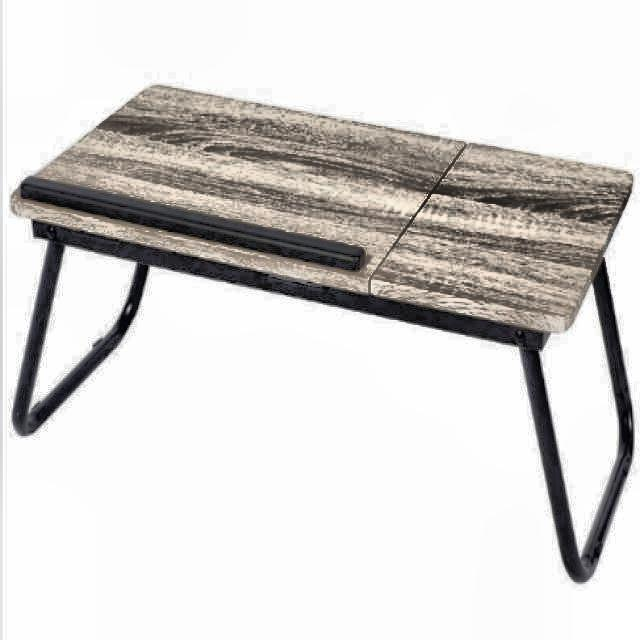mesa: (6, 69, 640, 593)
